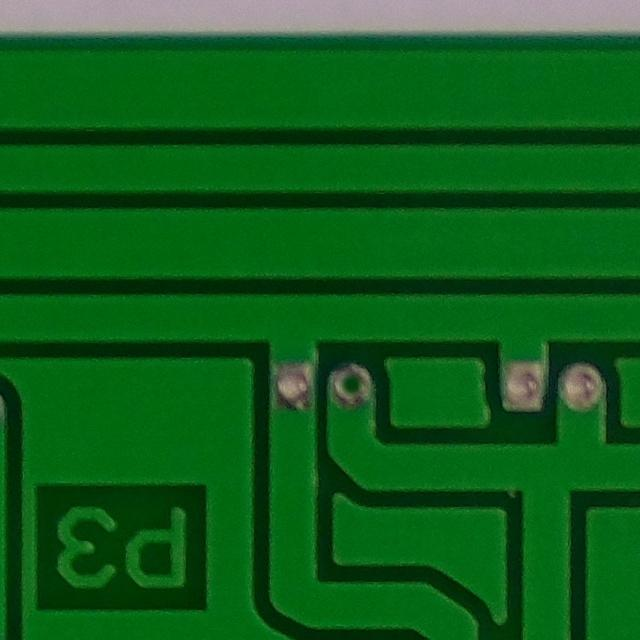missing_hole: (319, 346, 391, 419)
